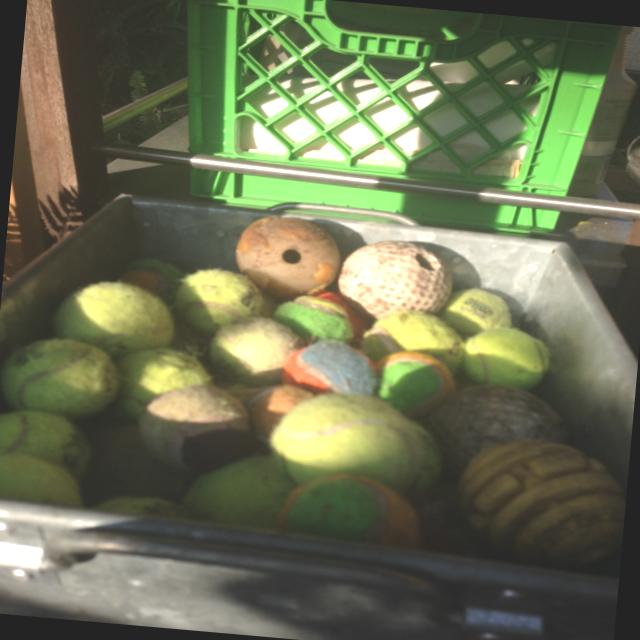Tennis Ball: (0, 247, 577, 547)
